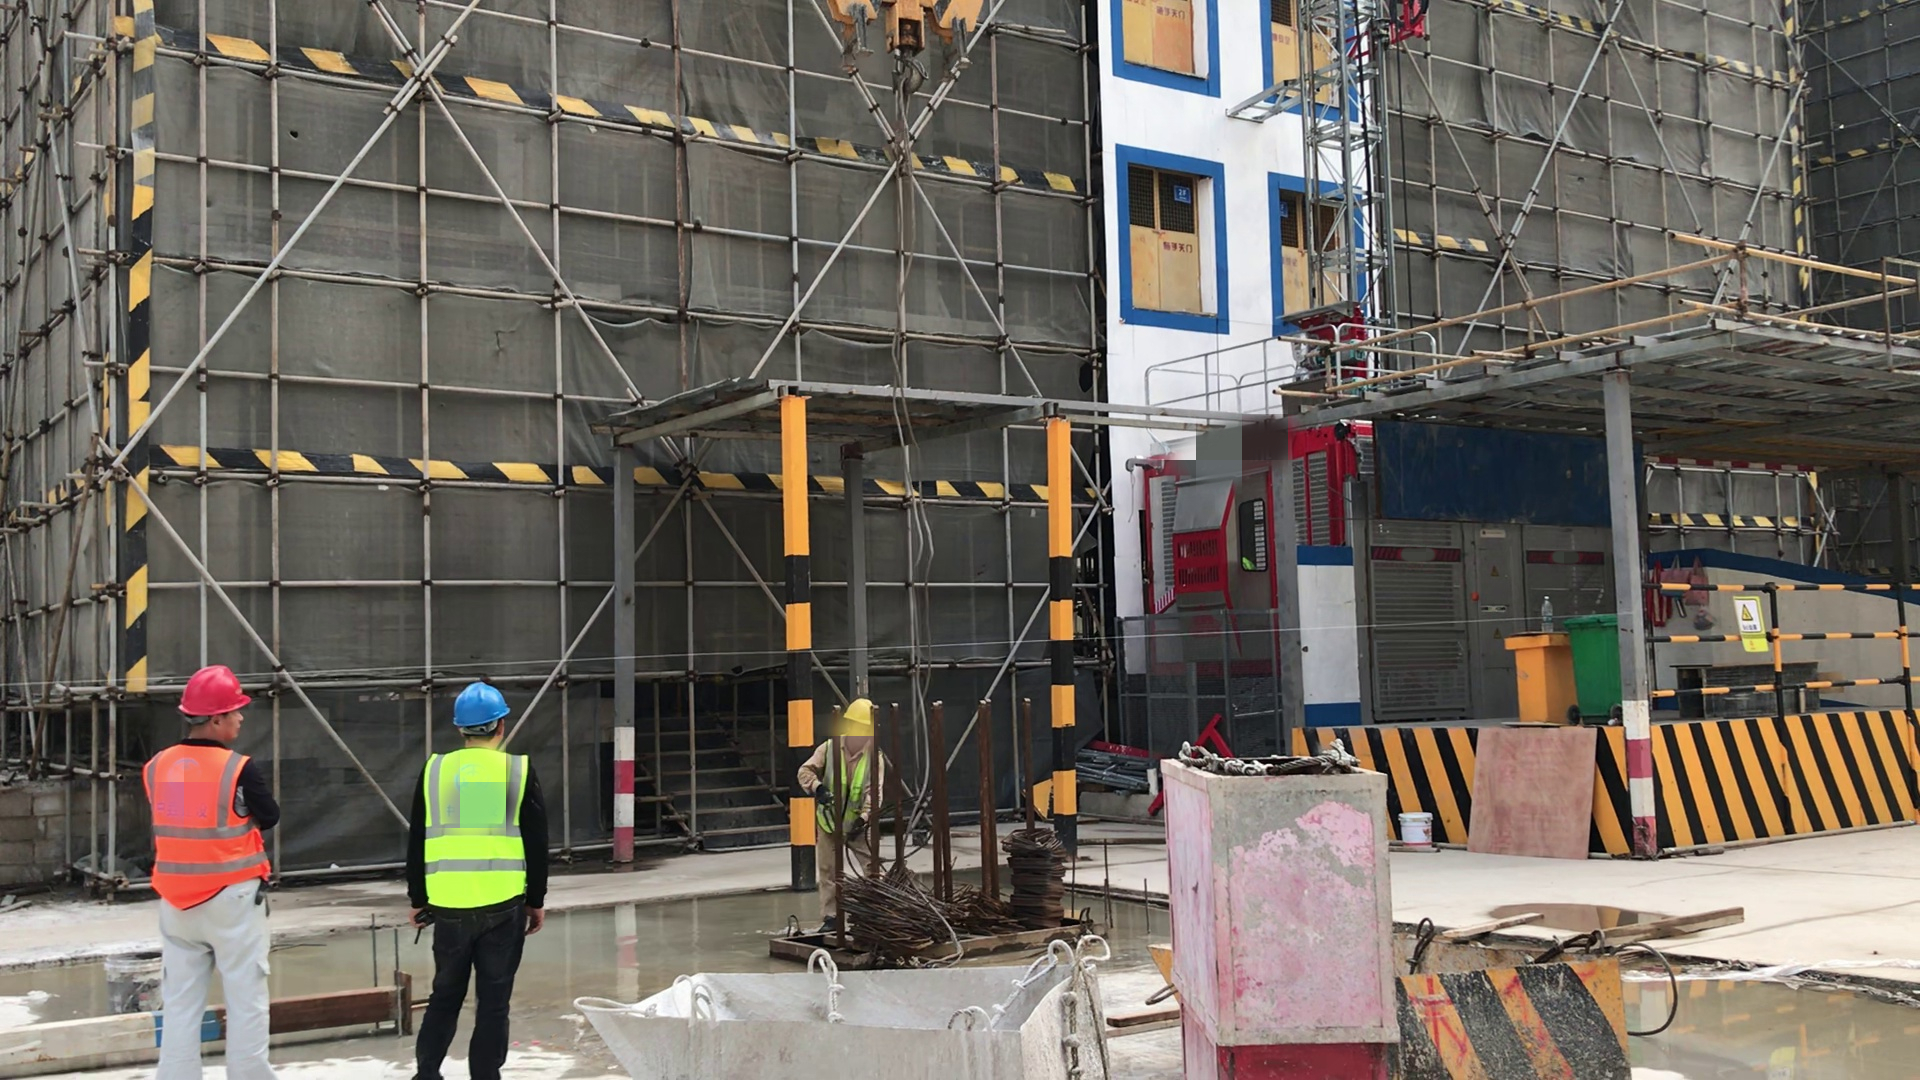ebox: (1502, 639, 1566, 731)
helmet: (181, 668, 251, 716), (450, 683, 508, 726), (844, 698, 874, 726)
hook: (825, 1, 985, 96)
hopper: (600, 958, 1102, 1080), (1383, 924, 1631, 1080)
person: (144, 668, 277, 1080), (415, 684, 536, 1080), (802, 700, 886, 937)
slogan: (1732, 596, 1770, 651)
vest: (151, 751, 261, 908), (424, 747, 527, 903), (821, 737, 873, 841)
